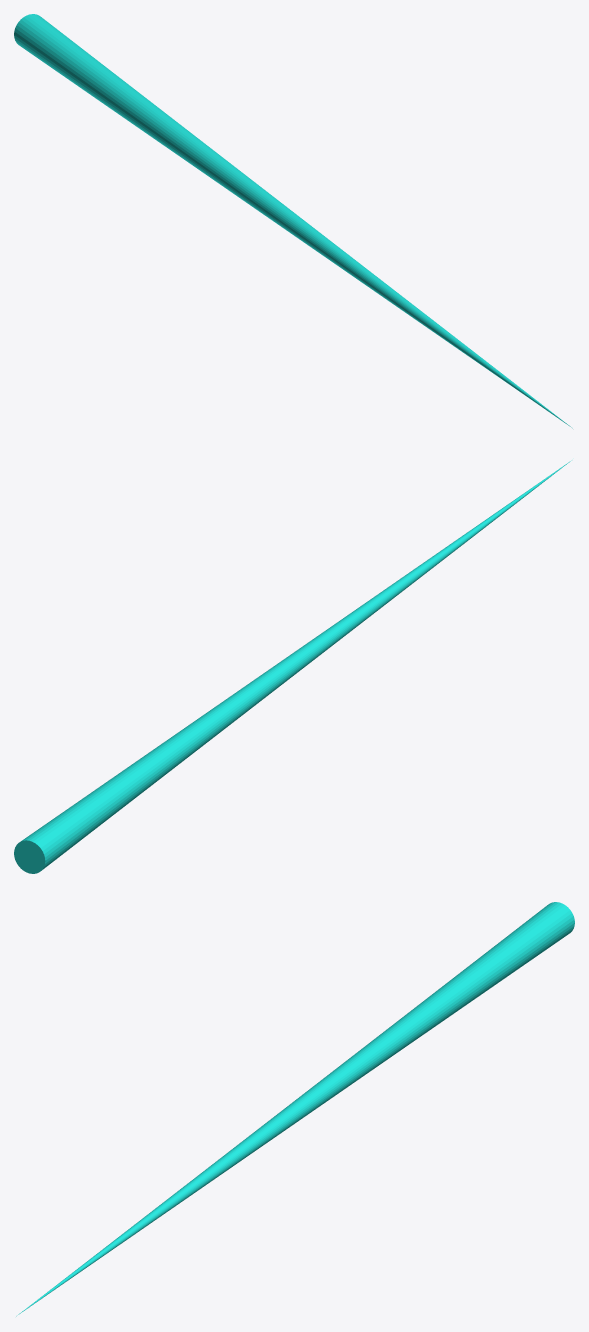
Rendered from disparo.fbx.
3 renders of one model, top to bottom at view 1: azimuth 30°, elevation 25°; view 2: azimuth 150°, elevation 25°; view 3: azimuth 330°, elevation 25°, orthographic.
Parts seen in each view (by area): view 1: Cone; view 2: Cone; view 3: Cone.
Boxes of the visible parts, x1,y1,x2,y2 form: Cone: [14, 14, 572, 428]; Cone: [14, 460, 571, 873]; Cone: [16, 902, 574, 1316].
Size of the model in its own units: 11.54 by 11.54 by 349.
